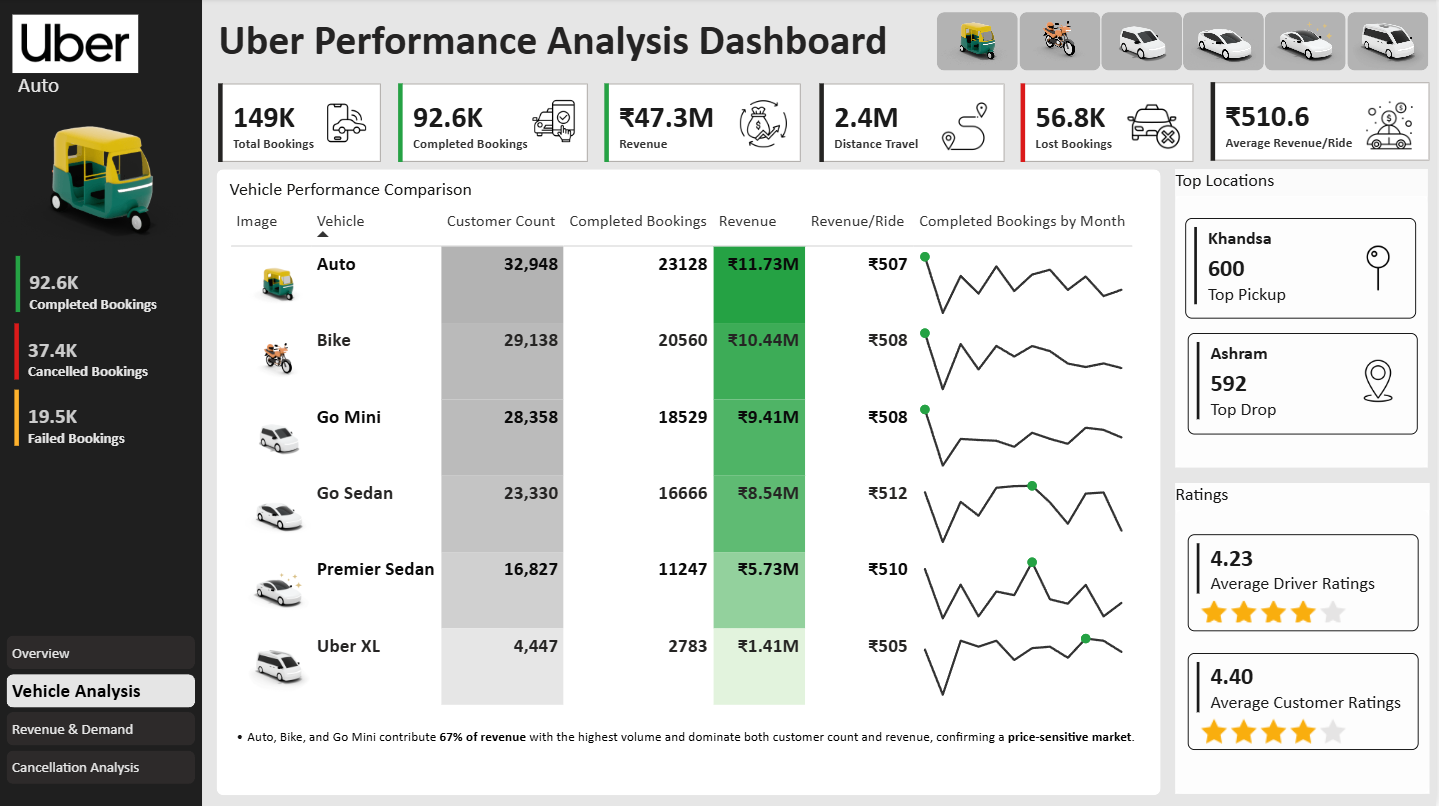

What the dashboard file says about the page in this screenshot:
{"tool":"powerbi","page":{"name":"Vehicle Analysis","canvas":[1280,720],"ordinal":1},"visuals":[{"type":"textbox","box":[190,10,640,57],"z":0},{"type":"shape","box":[194.2,152,840.9,557.4],"z":0,"group":"g1"},{"type":"cardVisual","fields":{"Data":["_Measures.completed"]},"box":[350.7,70.8,179.2,80],"z":1000},{"type":"cardVisual","fields":{"Data":["_Measures.total_booking_value"]},"box":[534.7,70.8,185.8,80],"z":2000},{"type":"cardVisual","fields":{"Data":["_Measures.total_distance"]},"box":[725.3,71,175,80],"z":3000},{"type":"cardVisual","fields":{"Data":["_Measures.lost_booking"]},"box":[905.2,70.8,164.2,80],"z":4000},{"type":"cardVisual","fields":{"Data":["_Measures.total_bookings"]},"box":[190,71.7,155.8,80.8],"z":5000},{"type":"advancedSlicerVisual","fields":{"Values":["Veh_IMG.Vehicle Type"]},"box":[830,8,450.8,62.5],"z":6000},{"type":"shape","box":[0,0,181,720.2],"z":7000},{"type":"image","box":[6,9.7,124.3,61.5],"z":8000},{"type":"cardVisual","fields":{"Data":["Min(Veh_IMG.Vehicle Type)"]},"box":[0,41,156.8,59.1],"z":9000},{"type":"shape","title":"Top Locations","box":[1047.5,152.5,225,265.8],"z":9000,"group":"g2"},{"type":"cardVisual","fields":{"Data":["Min(Veh_IMG.Img)"]},"box":[0,52.3,180.8,219.2],"z":10000},{"type":"cardVisual","fields":{"Data":["_Measures.total_bookings"]},"box":[9.7,224.4,155.6,60.3],"z":11000},{"type":"cardVisual","fields":{"Data":["_Measures.total_bookings"]},"box":[9,284.7,155,60],"z":12000},{"type":"cardVisual","fields":{"Data":["_Measures.total_bookings"]},"box":[9,343.8,155,60],"z":13000},{"type":"cardVisual","fields":{"Data":["_Measures.revenue_per_ride"]},"box":[1074.2,70,205.8,80],"z":14000},{"type":"pageNavigator","box":[6.4,567.3,168.2,135.5],"z":15000},{"type":"group","id":"g1","title":"Group 1","box":[194.2,152,840.9,557.4],"z":16000},{"type":"shape","title":"Ratings","box":[1047,432,226,277],"z":16000,"group":"g3"},{"type":"group","id":"g2","title":"Group 2","box":[1047.5,152.5,225,265.8],"z":17000},{"type":"multiRowCard","fields":{"Values":["Uber.Drop Location","_Measures.completed"]},"box":[1058.2,298.2,204.5,90],"z":17000,"group":"g2"},{"type":"tableEx","title":"Vehicle Performance Comparison ","fields":{"Values":["Veh_IMG.Img","Uber.Vehicle","Uber.Customer ID","_Measures.completed","_Measures.total_booking_value","_Measures.revenue_per_ride","SparklineData(_Measures.total_bookings_[calender.Month])"]},"box":[201.2,155.6,821.6,487.4],"z":18000,"group":"g1"},{"type":"multiRowCard","fields":{"Values":["_Measures.completed","Uber.Pickup Location"]},"box":[1057,195.8,205.7,89.2],"z":18000,"group":"g2"},{"type":"group","id":"g3","title":"Group 3","box":[1047,432,226,277],"z":18000},{"type":"multiRowCard","fields":{"Values":["Avg(Uber.Customer Rating)"]},"box":[1058.2,583.6,205.5,86.4],"z":19000,"group":"g3"},{"type":"multiRowCard","fields":{"Values":["Avg(Uber.Driver Ratings)"]},"box":[1058.2,477.3,205.5,86.4],"z":20000,"group":"g3"},{"type":"image","box":[1203.2,214.4,49.6,50.8],"z":21000,"group":"g2"},{"type":"image","box":[1203.2,314.7,49.6,53.3],"z":22000,"group":"g2"},{"type":"image","box":[1064.5,531.8,139.1,29.1],"z":23000,"group":"g3"},{"type":"image","box":[1064.5,635.5,139.1,34.5],"z":24000,"group":"g3"},{"type":"textbox","box":[198.6,645,824.3,55],"z":25000,"group":"g1"}]}

Visuals, with their boxes in screenshot pixels (x1, y1, x2, y2), scaled from the page's 1280x720 canvas onto the 1439x806 screenshot:
textbox: [x1=214, y1=11, x2=933, y2=75]
shape: [x1=218, y1=170, x2=1164, y2=794]
cardVisual - _Measures.completed: [x1=394, y1=79, x2=596, y2=169]
cardVisual - _Measures.total_booking_value: [x1=601, y1=79, x2=810, y2=169]
cardVisual - _Measures.total_distance: [x1=815, y1=79, x2=1012, y2=169]
cardVisual - _Measures.lost_booking: [x1=1018, y1=79, x2=1202, y2=169]
cardVisual - _Measures.total_bookings: [x1=214, y1=80, x2=389, y2=171]
advancedSlicerVisual - Veh_IMG.Vehicle Type: [x1=933, y1=9, x2=1438, y2=79]
shape: [x1=0, y1=0, x2=203, y2=805]
image: [x1=7, y1=11, x2=146, y2=80]
cardVisual - Min(Veh_IMG.Vehicle Type): [x1=0, y1=46, x2=176, y2=112]
"Top Locations" shape: [x1=1178, y1=171, x2=1431, y2=468]
cardVisual - Min(Veh_IMG.Img): [x1=0, y1=59, x2=203, y2=304]
cardVisual - _Measures.total_bookings: [x1=11, y1=251, x2=186, y2=319]
cardVisual - _Measures.total_bookings: [x1=10, y1=319, x2=184, y2=386]
cardVisual - _Measures.total_bookings: [x1=10, y1=385, x2=184, y2=452]
cardVisual - _Measures.revenue_per_ride: [x1=1208, y1=78, x2=1438, y2=168]
pageNavigator: [x1=7, y1=635, x2=196, y2=787]
"Group 1" group: [x1=218, y1=170, x2=1164, y2=794]
"Ratings" shape: [x1=1177, y1=484, x2=1431, y2=794]
"Group 2" group: [x1=1178, y1=171, x2=1431, y2=468]
multiRowCard - Uber.Drop Location x _Measures.completed: [x1=1190, y1=334, x2=1420, y2=435]
"Vehicle Performance Comparison " tableEx: [x1=226, y1=174, x2=1150, y2=720]
multiRowCard - _Measures.completed x Uber.Pickup Location: [x1=1188, y1=219, x2=1420, y2=319]
"Group 3" group: [x1=1177, y1=484, x2=1431, y2=794]
multiRowCard - Avg(Uber.Customer Rating): [x1=1190, y1=653, x2=1421, y2=750]
multiRowCard - Avg(Uber.Driver Ratings): [x1=1190, y1=534, x2=1421, y2=631]
image: [x1=1353, y1=240, x2=1408, y2=297]
image: [x1=1353, y1=352, x2=1408, y2=412]
image: [x1=1197, y1=595, x2=1353, y2=628]
image: [x1=1197, y1=711, x2=1353, y2=750]
textbox: [x1=223, y1=722, x2=1150, y2=784]
